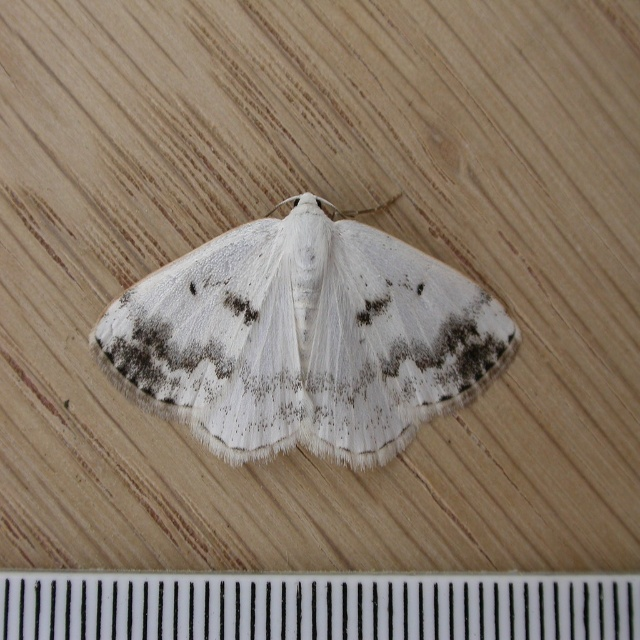Moths and butterflies: (88, 191, 523, 471)
